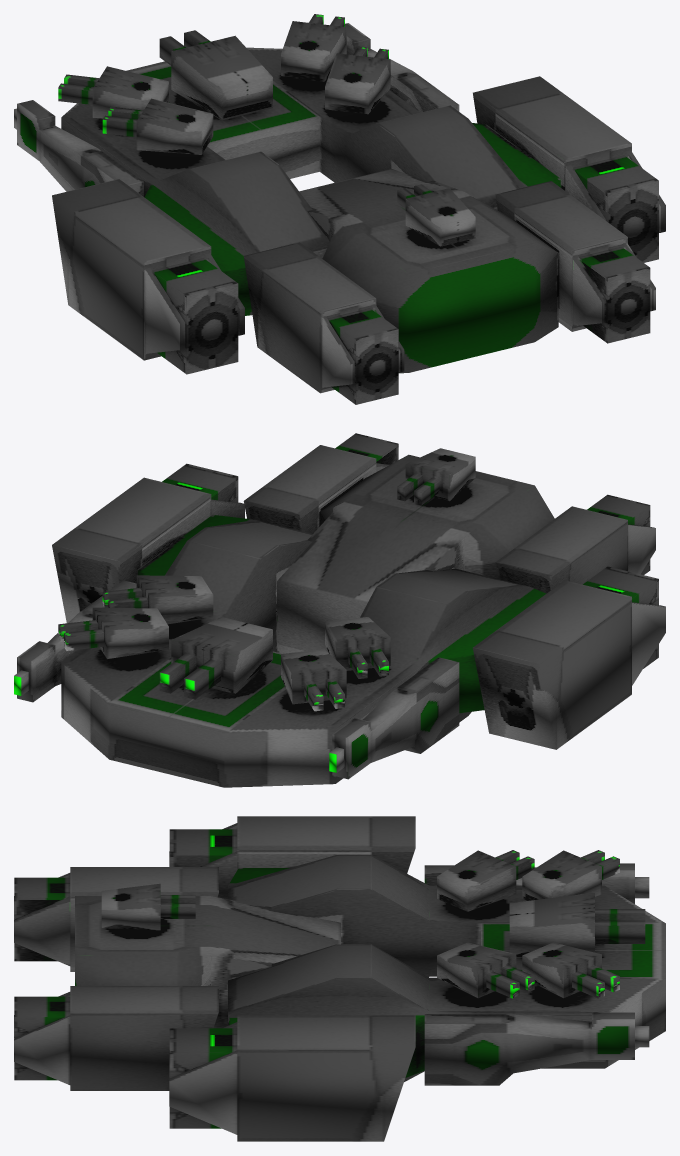
File: UCruiser.fbx
The picture shows the model from 3 angles, top to bottom: view 1: azimuth 30°, elevation 25°; view 2: azimuth 150°, elevation 25°; view 3: azimuth 270°, elevation 25°; orthographic projection. The views are drawn at different scales.
Visible parts, largest first — view 1: UnionCruiserMod; view 2: UnionCruiserMod; view 3: UnionCruiserMod.
Boxes of the visible parts, box(x1,y1,x2,y2) form: UnionCruiserMod: box(14, 14, 665, 404); UnionCruiserMod: box(14, 433, 665, 787); UnionCruiserMod: box(14, 816, 665, 1141).
Bounding box in the file's own units: 30.23 × 8.76 × 36.09.
1 material, 1 textured.
